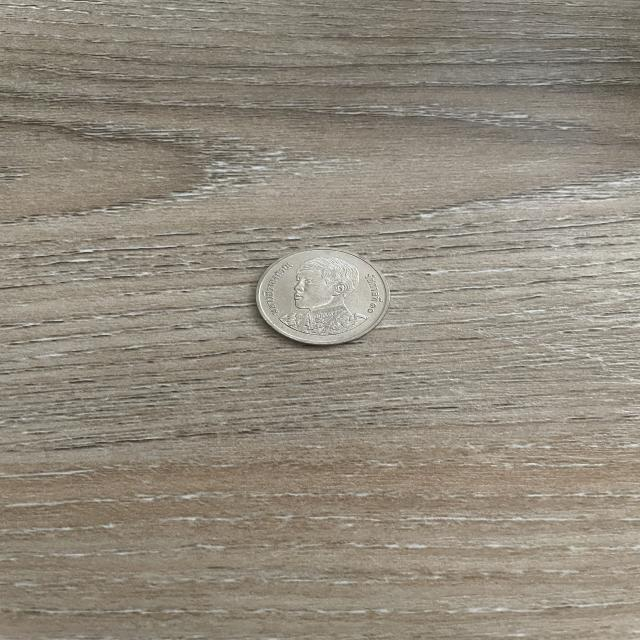1 Bath: (249, 244, 397, 351)
